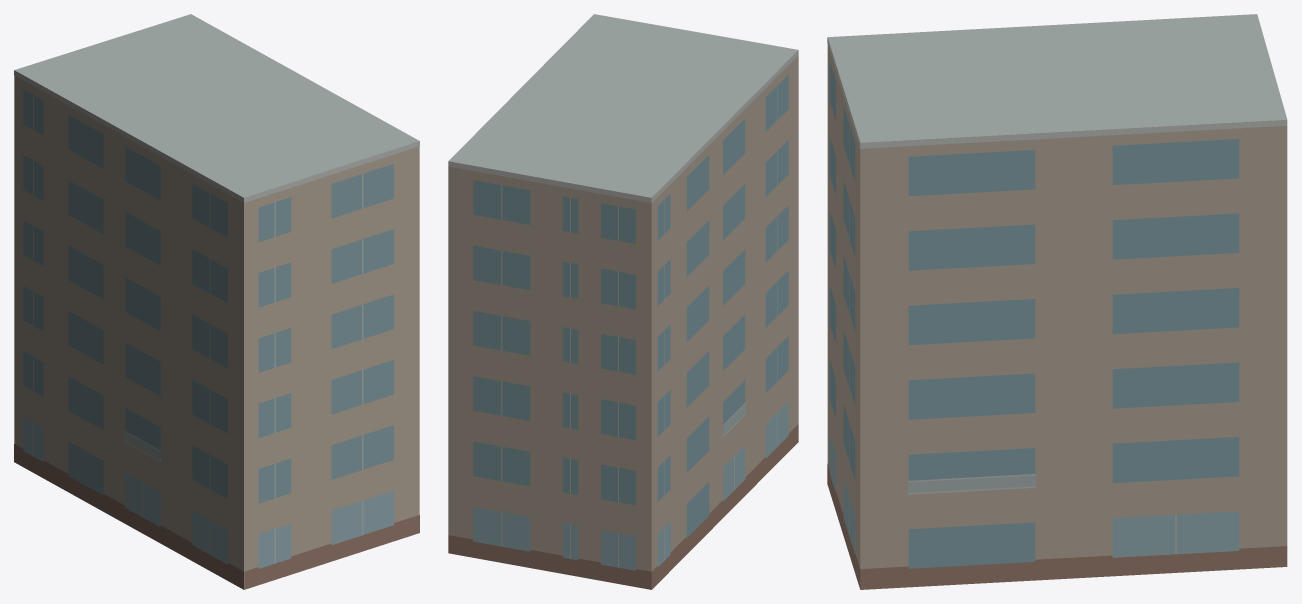
The model's file is survey-upis-32702807.glb.
The picture shows the model from 3 angles, left to right: view 1: azimuth 30°, elevation 25°; view 2: azimuth 150°, elevation 25°; view 3: azimuth 270°, elevation 25°; orthographic projection. The views are drawn at different scales.
Parts seen in each view (by area): view 1: survey-upis-32702807.tmp; view 2: survey-upis-32702807.tmp; view 3: survey-upis-32702807.tmp.
Part boxes in pixels (x1=…): survey-upis-32702807.tmp: x1=14, y1=14, x2=419, y2=589; survey-upis-32702807.tmp: x1=448, y1=14, x2=798, y2=589; survey-upis-32702807.tmp: x1=827, y1=14, x2=1287, y2=589.
Bounding box in the file's own units: 11.32 × 18.3 × 17.08.
